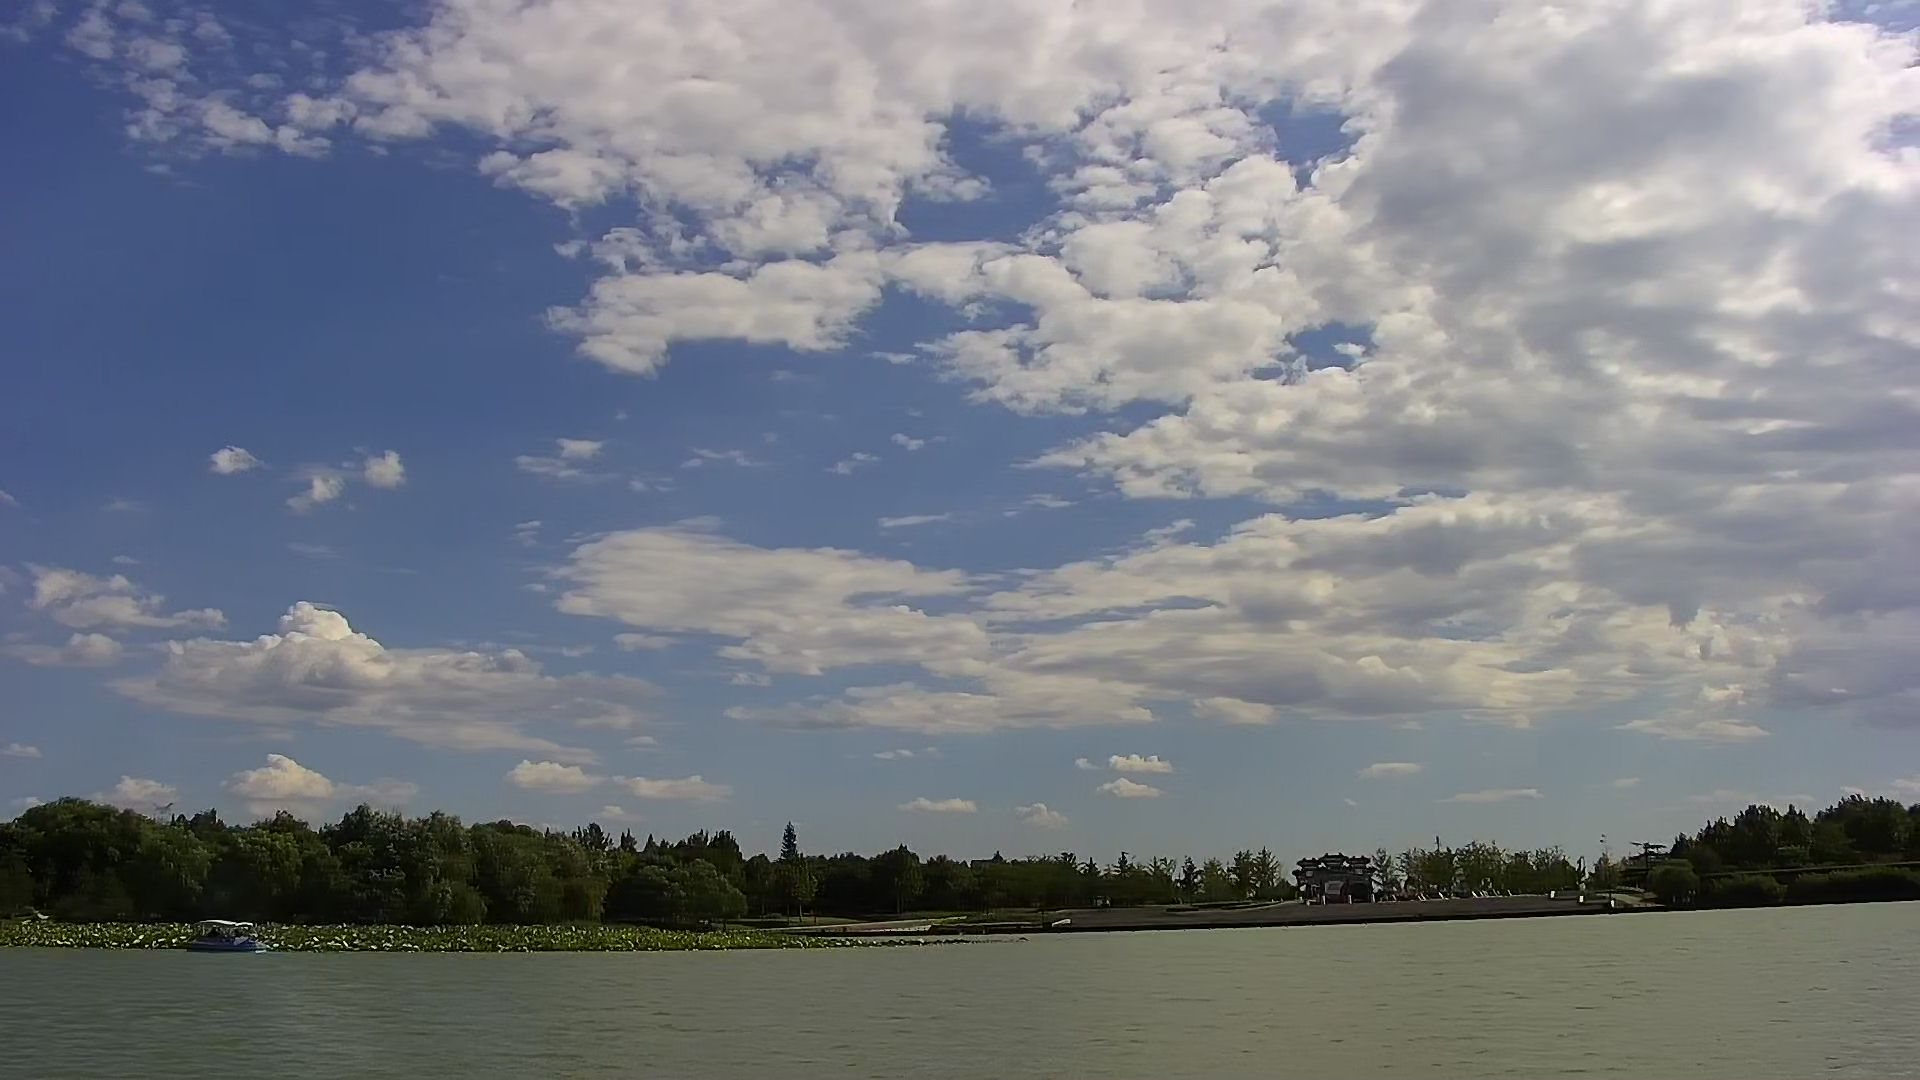boat: (179, 915, 270, 956)
harbor: (1062, 886, 1672, 934)
